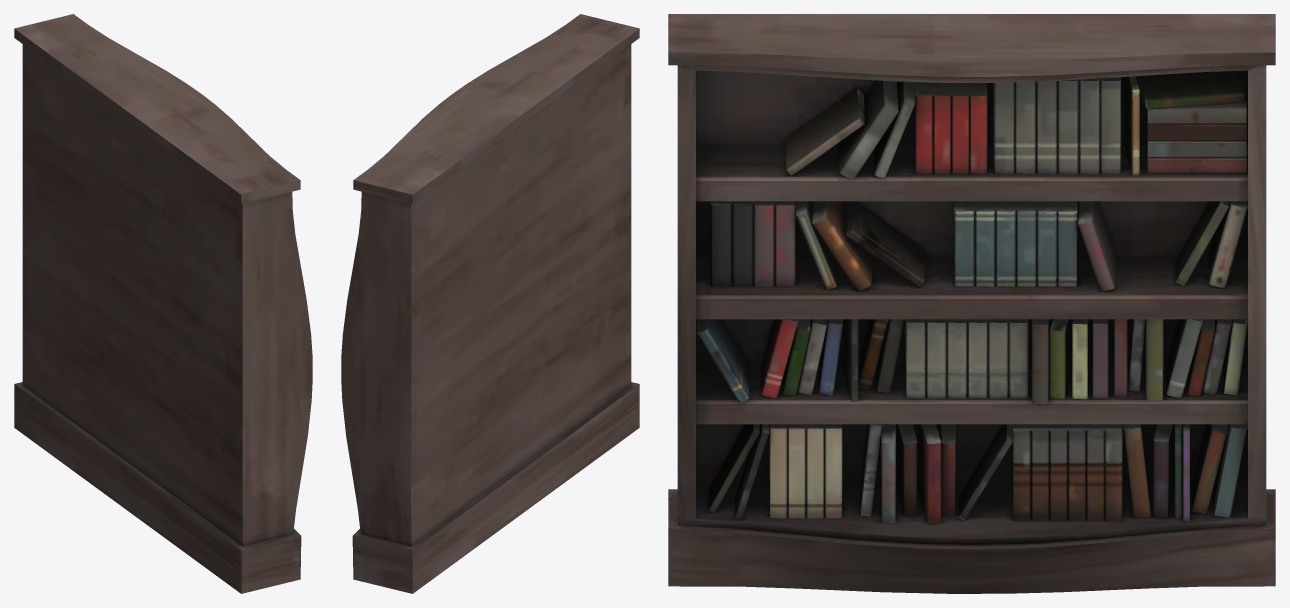
The picture shows the model from 3 angles, left to right: view 1: azimuth 30°, elevation 25°; view 2: azimuth 150°, elevation 25°; view 3: azimuth 270°, elevation 25°; orthographic projection. The views are drawn at different scales.
Visible parts, largest first — view 1: body0_model0_lod0_mesh0; view 2: body0_model0_lod0_mesh0; view 3: body0_model0_lod0_mesh0, body0_model0_lod0_mesh1.
Part boxes in pixels (x1,y1,x2,y2): body0_model0_lod0_mesh0: [14, 14, 312, 593]; body0_model0_lod0_mesh0: [341, 14, 639, 593]; body0_model0_lod0_mesh0: [668, 14, 1275, 593]; body0_model0_lod0_mesh1: [697, 72, 1247, 524].
Bounding box in the file's own units: 30.87 × 128 × 132.
2 materials, 2 textured.
